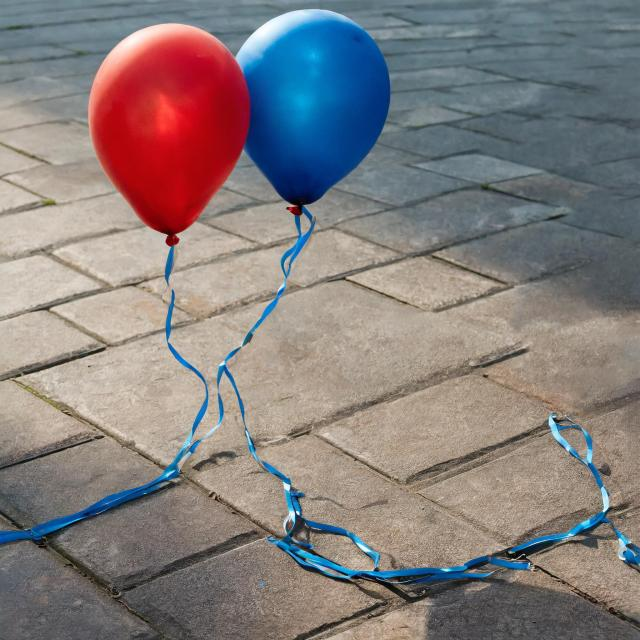blue: (223, 9, 391, 211)
red: (93, 24, 250, 239)
